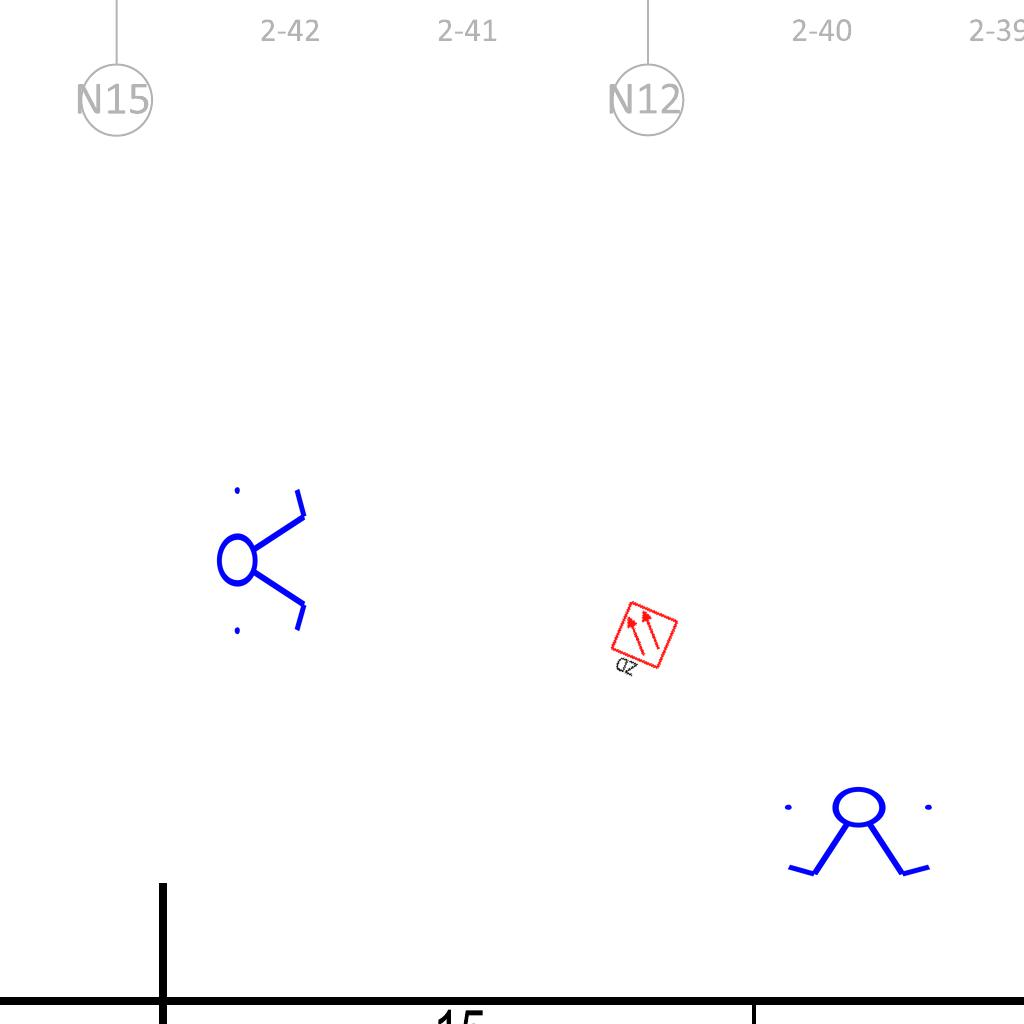Serienschalter: (215, 475, 311, 643), (776, 785, 944, 881)
ZD_Melder_in_Zwischendecke_mit_Revisionsoeffnung_mind_40_x_40_cm: (600, 598, 683, 690)
